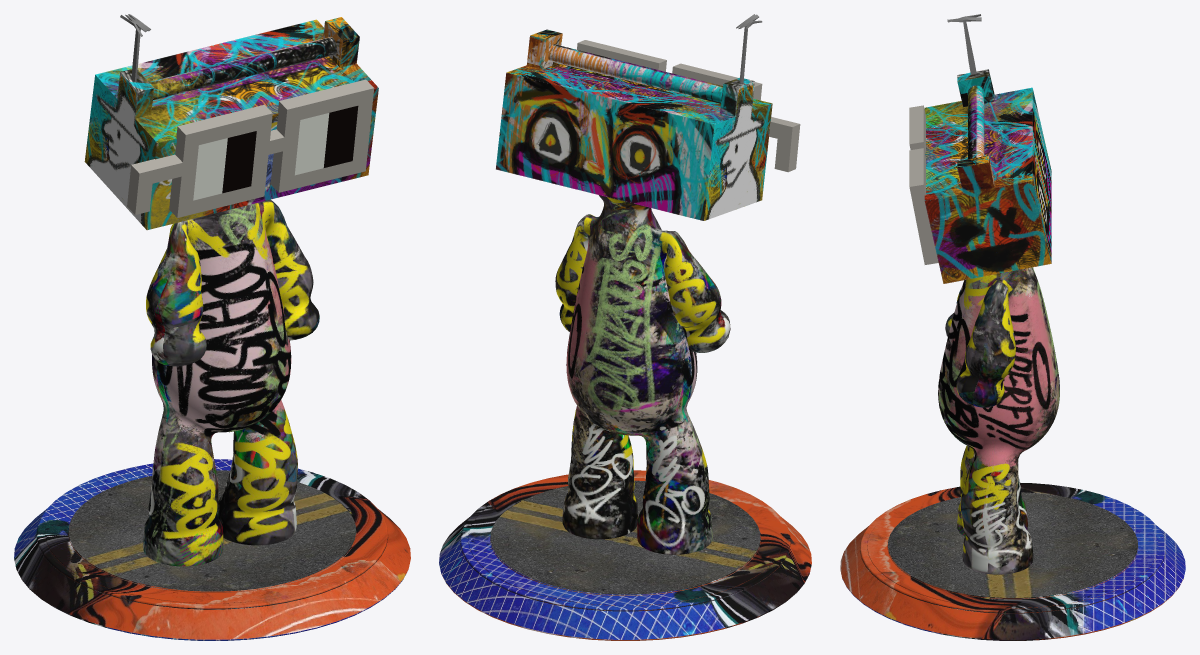
3 renders of one model, left to right at view 1: azimuth 30°, elevation 25°; view 2: azimuth 150°, elevation 25°; view 3: azimuth 270°, elevation 25°, orthographic. The views are drawn at different scales.
Parts seen in each view (by area): view 1: BBody; view 2: BBody; view 3: BBody.
Part boxes in pixels (x1,y1,x2,y2): BBody: [14, 14, 410, 640]; BBody: [439, 14, 811, 640]; BBody: [840, 14, 1185, 640].
Size of the model in its own units: 1.45 by 2.35 by 1.45.
Materials: 6 (5 with a texture image).
